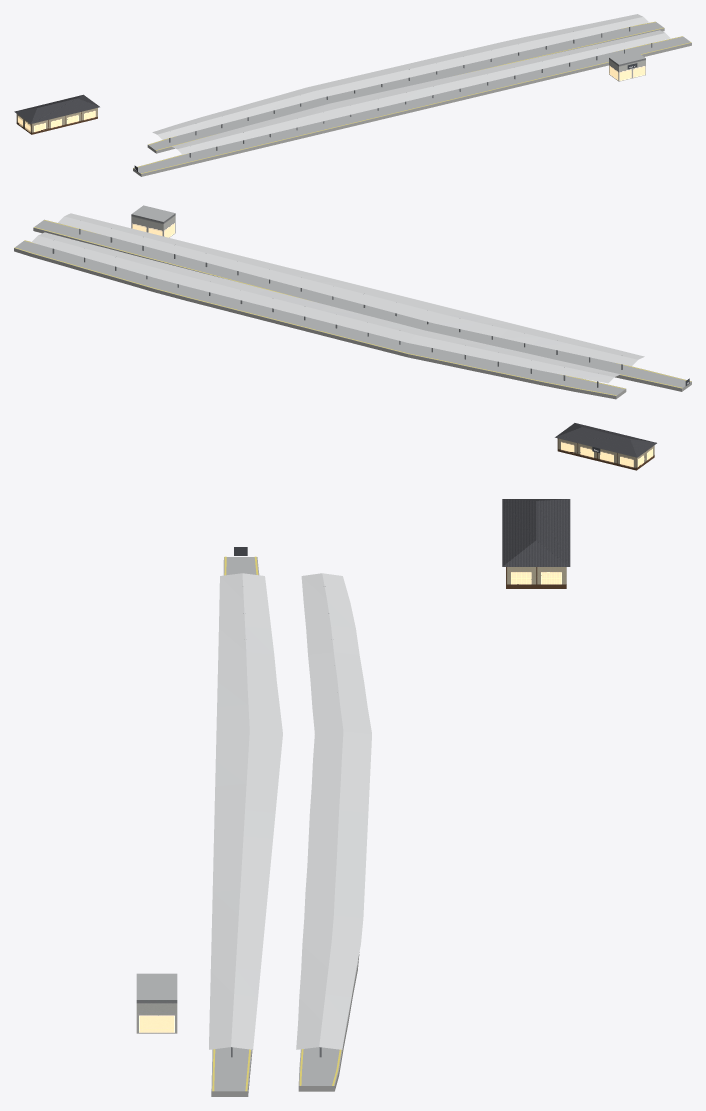
File: uguisudani_station.glb
3 views of the same model, one above another, from view 1: azimuth 30°, elevation 25°; view 2: azimuth 150°, elevation 25°; view 3: azimuth 270°, elevation 25° (orthographic). The views are drawn at different scales.
Parts seen in each view (by area): view 1: UG_Station; view 2: UG_Station; view 3: UG_Station.
Part boxes in pixels (x1,y1,x2,y2): UG_Station: (14, 14, 691, 176); UG_Station: (14, 205, 691, 470); UG_Station: (136, 499, 570, 1096).
Bounding box in the file's own units: 218 × 6.4 × 69.75.
11 materials, 3 textured.
